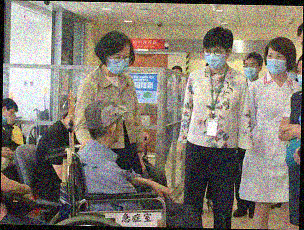with_mask: (106, 51, 131, 77), (266, 51, 288, 76), (202, 48, 227, 69), (243, 61, 259, 80), (284, 67, 298, 82)
